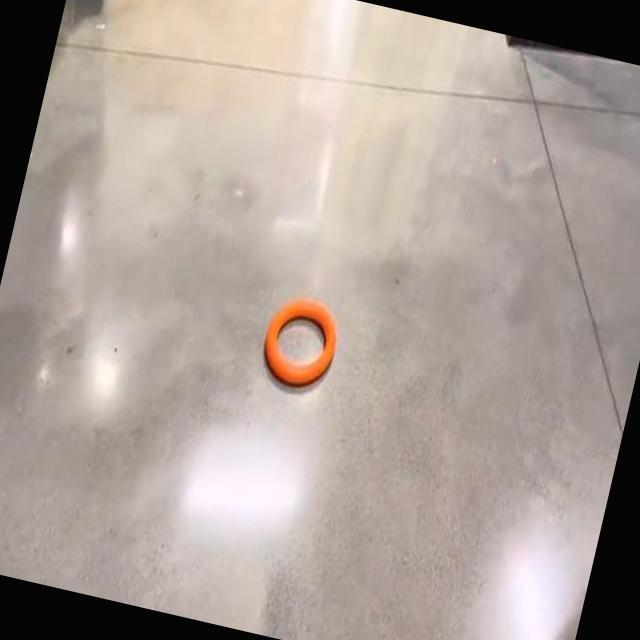note: (264, 299, 336, 385)
